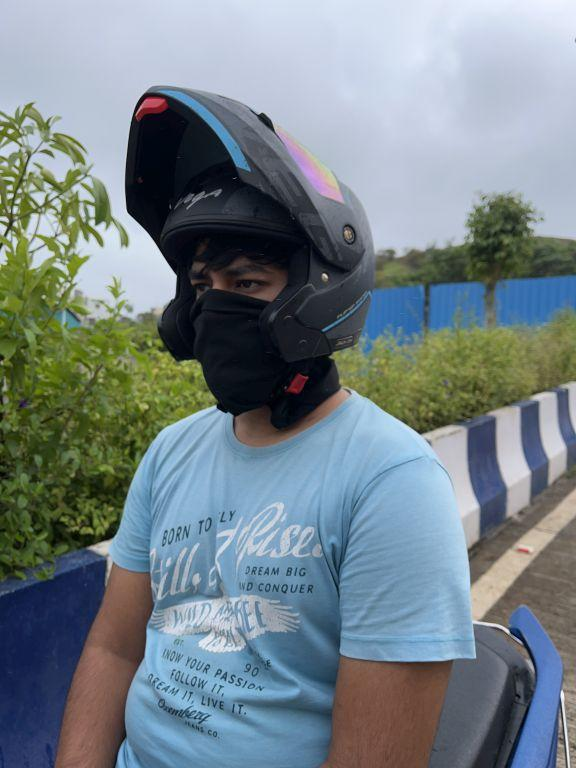helmet: (115, 65, 381, 435)
